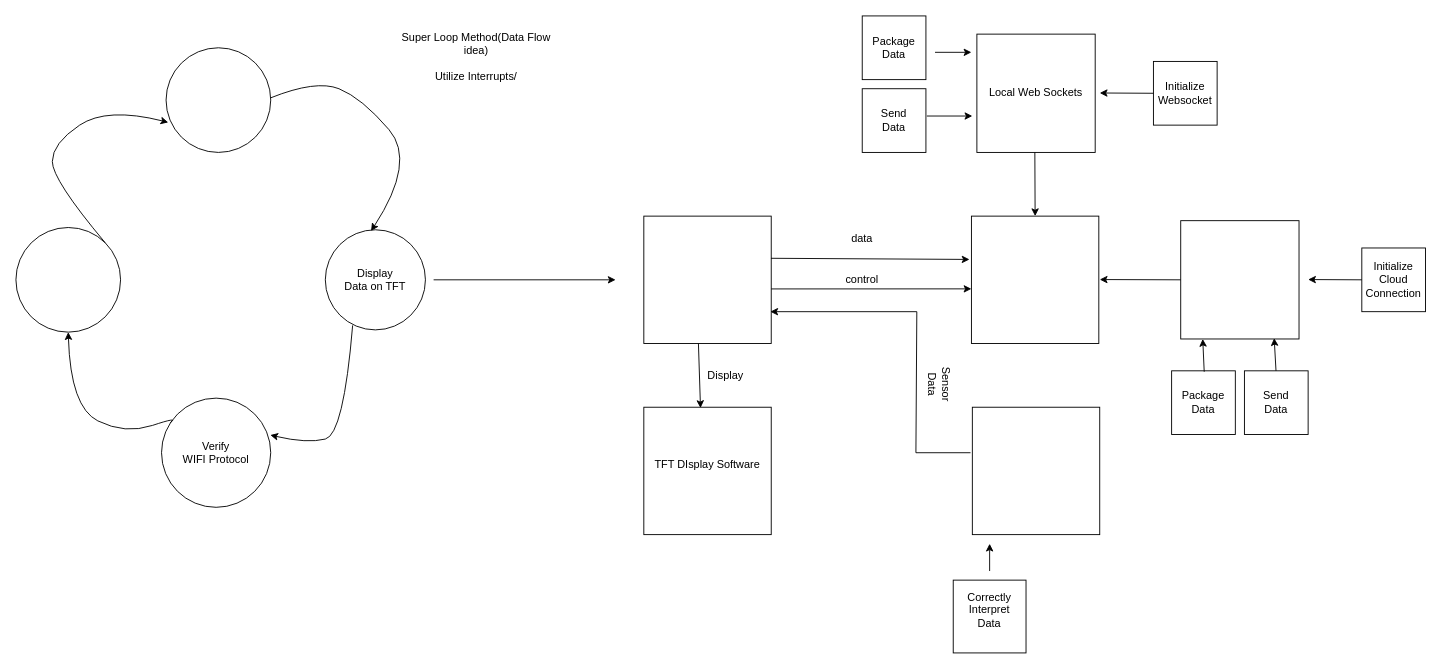
This 1441x669 diagram has some shape labels left out. The shapes that lost their labels are listed below. From the top down, each one's centre as x and y in pixels, then its label:
the point at 218,99: Fetch Sensor Data
the point at 68,279: Send Data Through WIFI
the point at 707,279: MAIN RTOS
the point at 1035,279: WiIFI/Connection Protocols
the point at 1239,279: Cloud Service Connection
the point at 1035,470: Sensor/Interface Software
